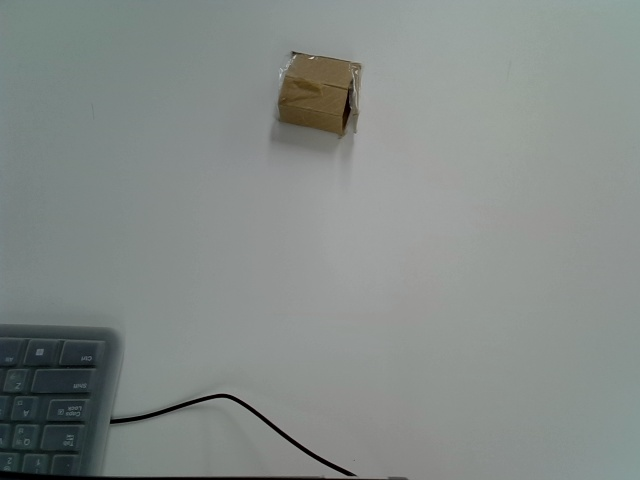defect: (274, 51, 366, 136)
